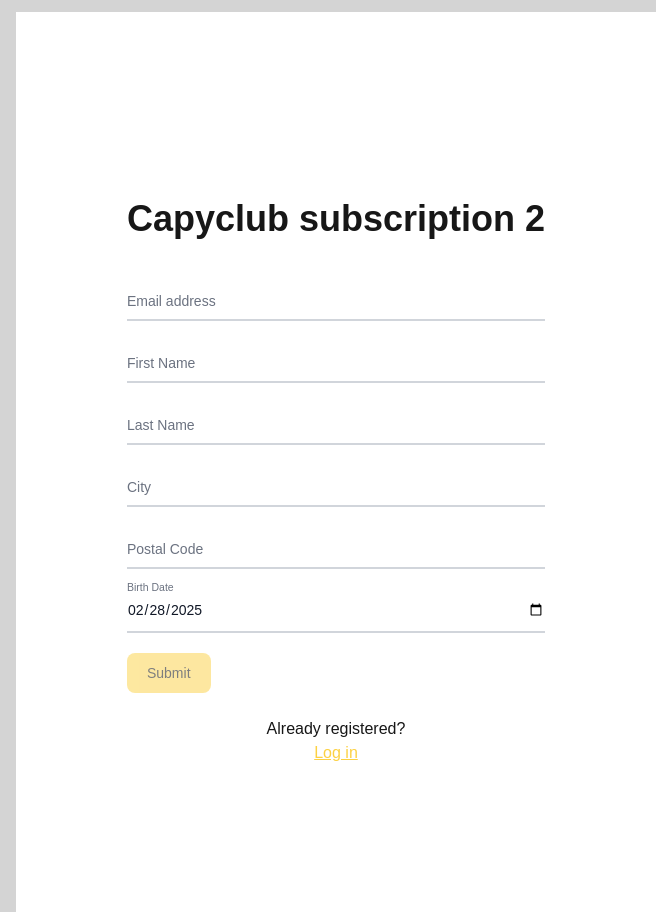
Test: RegisterForm component › should display validation errors for invalid inputs
In the field with test id "email-input": x=336, y=300 [127, 279, 545, 321], type "john.doe@testcom"
In the field with test id "first-name-input": x=336, y=362 [127, 341, 545, 383], type "John123"
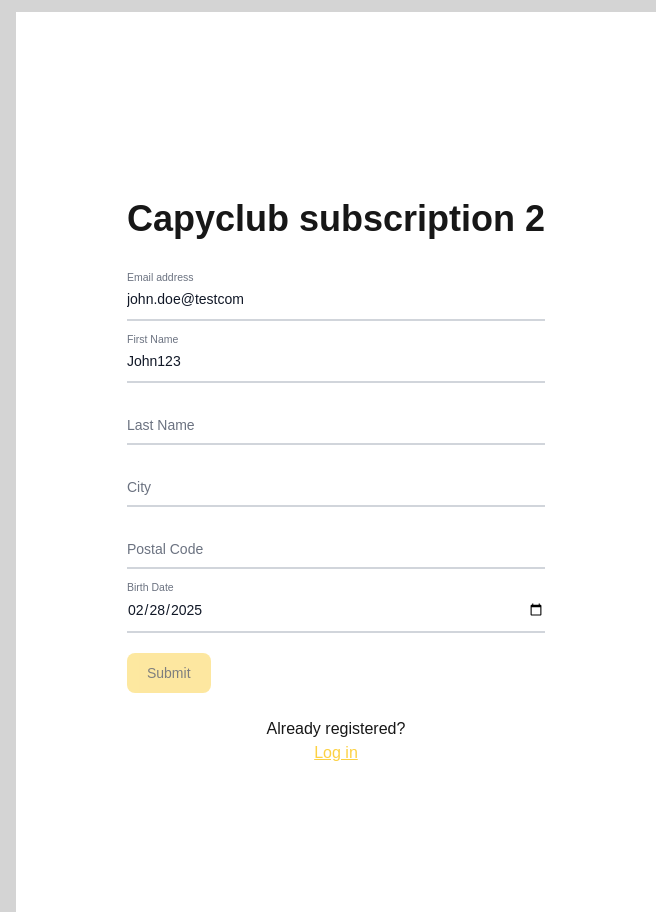
In the field with test id "last-name-input": x=336, y=424 [127, 403, 545, 445], type "Doe@"
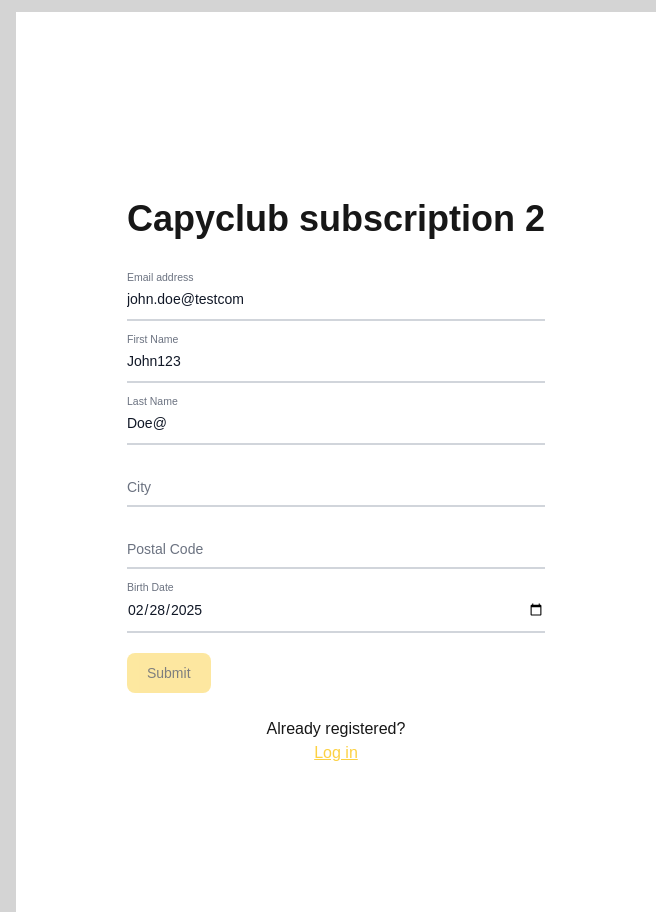
In the field with test id "city-input": x=336, y=486 [127, 465, 545, 507], type "City!"
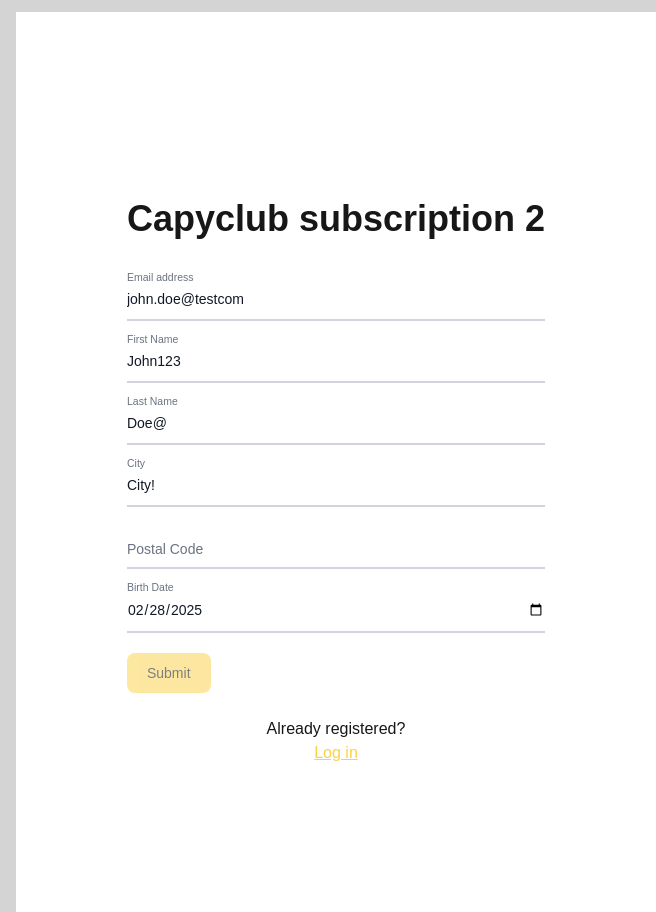
In the field with test id "postal-code-input": x=336, y=548 [127, 527, 545, 569], type "123"
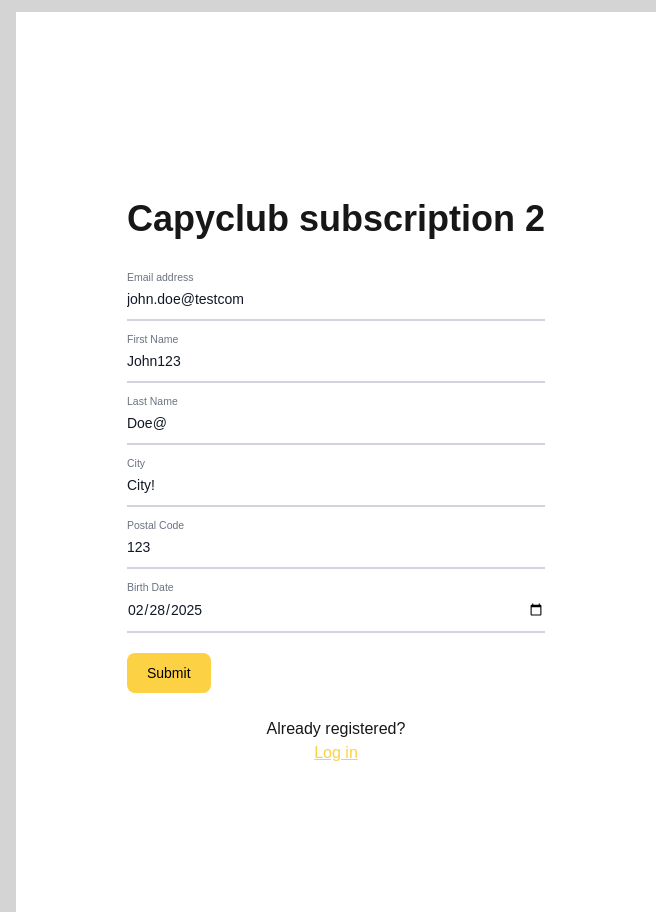
In the date field with test id "birth-date-input": x=336, y=611 [127, 589, 545, 633], type "2005-01-01"
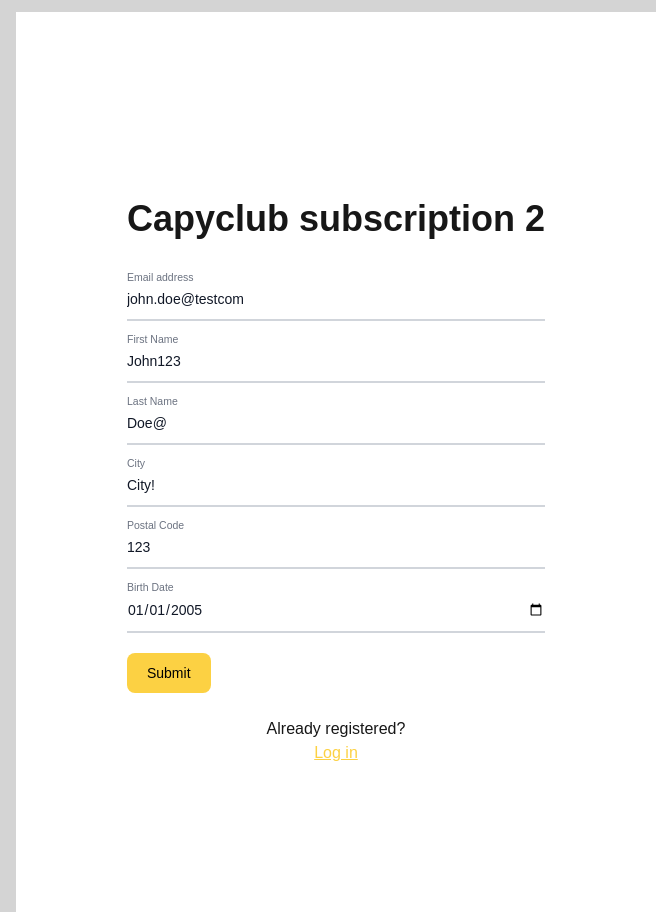
Click the button with test id "submit-button": x=169, y=673 [127, 653, 211, 693]
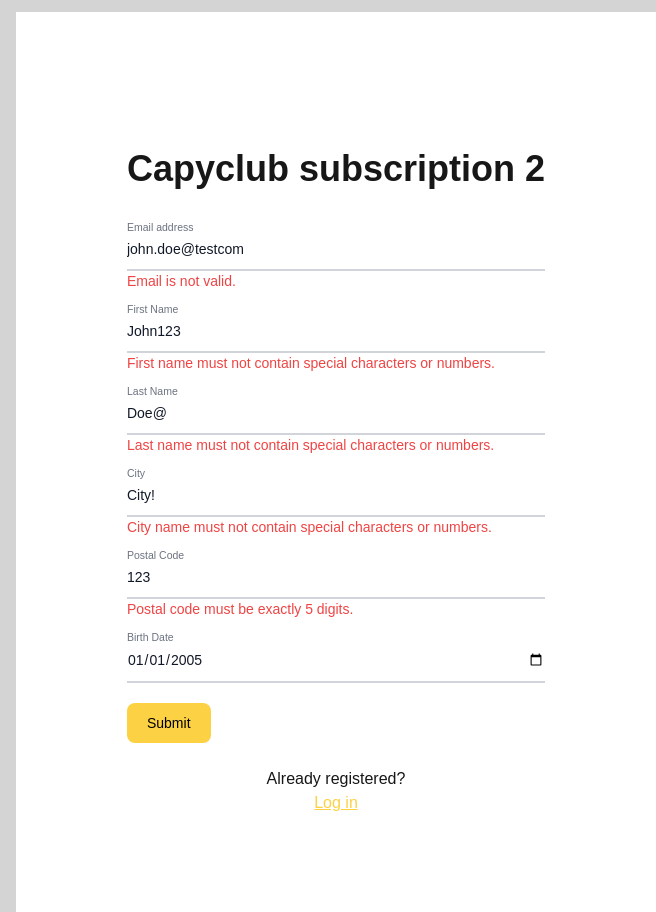
Expected: the text with test id "email-error" reads "Email is not valid.", [127, 273, 236, 289]
Expected: the text with test id "first-name-error" reads "First name must not contain special characters or numbers.", [127, 355, 495, 371]
Expected: the text with test id "last-name-error" reads "Last name must not contain special characters or numbers.", [127, 437, 494, 453]
